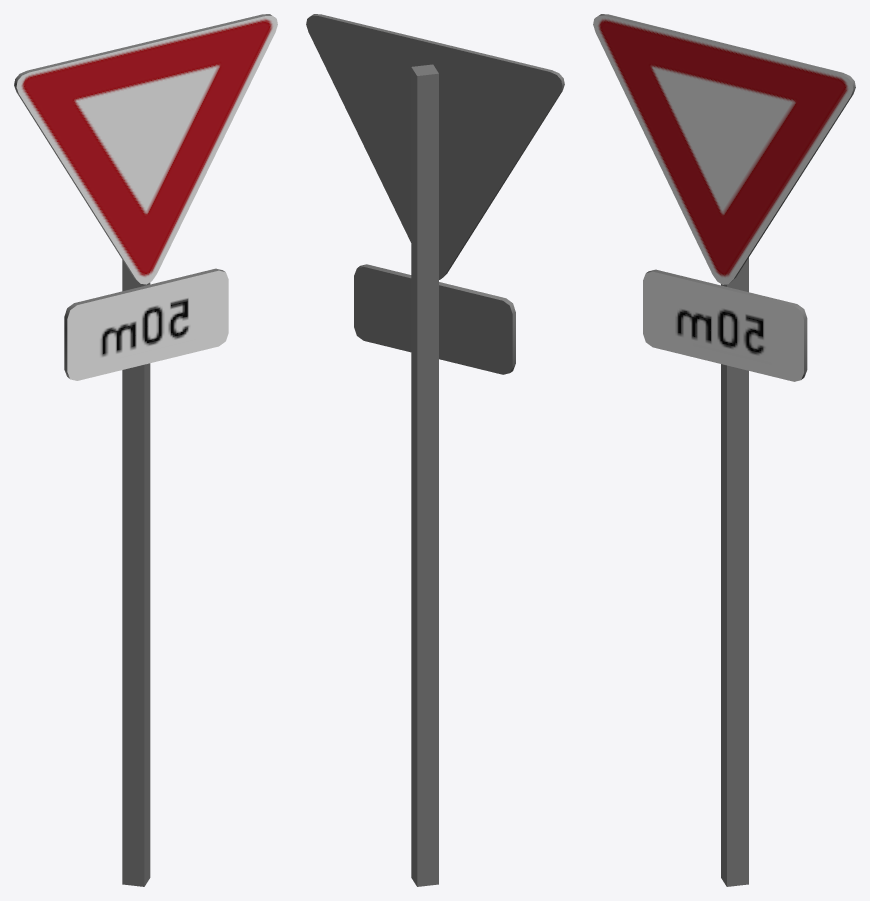
File: Yield50.obj
3 renders of one model, left to right at view 1: azimuth 30°, elevation 25°; view 2: azimuth 150°, elevation 25°; view 3: azimuth 330°, elevation 25°, orthographic.
Parts seen in each view (by area): view 1: Sign_Yield_50m_Sign_Yield.002; view 2: Sign_Yield_50m_Sign_Yield.002; view 3: Sign_Yield_50m_Sign_Yield.002.
Part boxes in pixels (x1=…): Sign_Yield_50m_Sign_Yield.002: x1=14, y1=14, x2=277, y2=886; Sign_Yield_50m_Sign_Yield.002: x1=306, y1=14, x2=564, y2=886; Sign_Yield_50m_Sign_Yield.002: x1=593, y1=14, x2=855, y2=886.
Size of the model in its own units: 1.47 by 4.55 by 0.193.
Materials: 1 (1 with a texture image).
